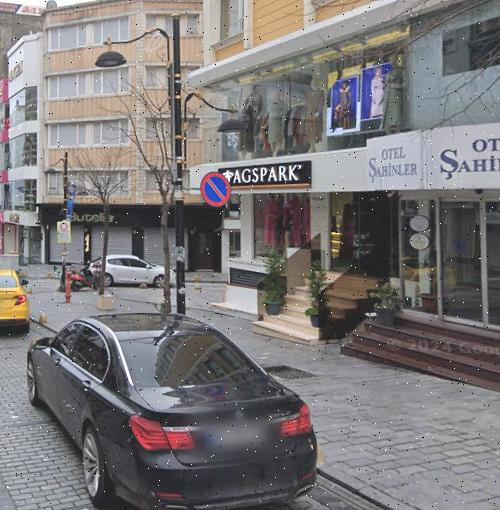nopark: (202, 176, 229, 204)
